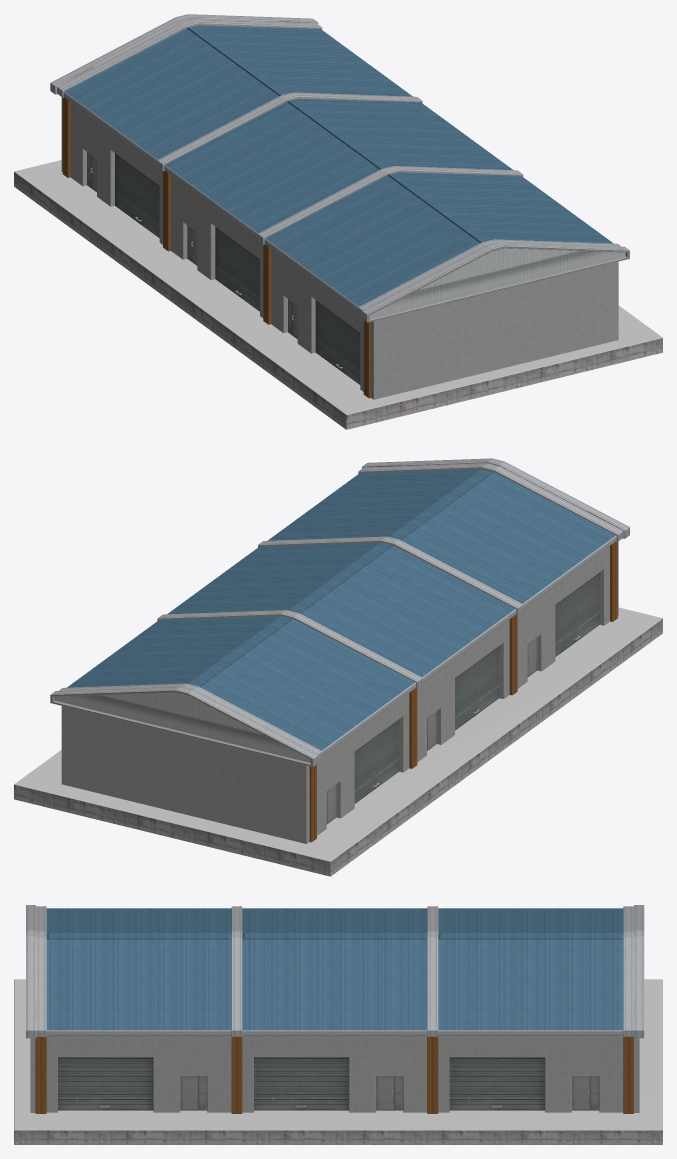
Rendered from WareHouse02.fbx.
The picture shows the model from 3 angles, top to bottom: view 1: azimuth 30°, elevation 25°; view 2: azimuth 150°, elevation 25°; view 3: azimuth 270°, elevation 25°; orthographic projection. The views are drawn at different scales.
Parts seen in each view (by area): view 1: WareHouse02_LOD0; view 2: WareHouse02_LOD0; view 3: WareHouse02_LOD0.
Part boxes in pixels (left/top/right/bottom): WareHouse02_LOD0: left=14, top=14, right=662, bottom=429; WareHouse02_LOD0: left=14, top=458, right=662, bottom=876; WareHouse02_LOD0: left=14, top=905, right=662, bottom=1144.
Size of what is drawn, in the model's own units: 22 by 9.24 by 40.
